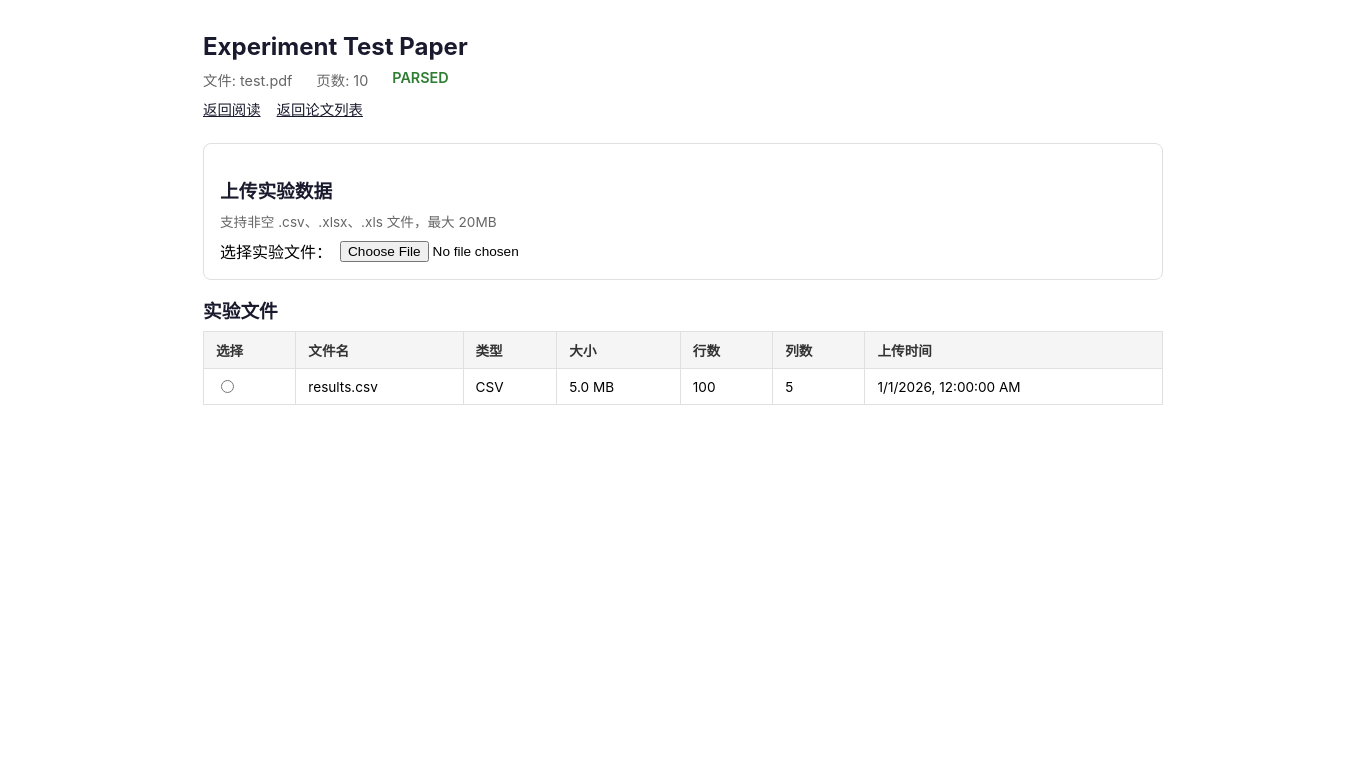
Test: ExperimentDataView › shows existing result immediately on file select
Click the row with class "file-row": (683, 386) top-left (204, 368), bottom-right (1162, 404)
(page scrolled)
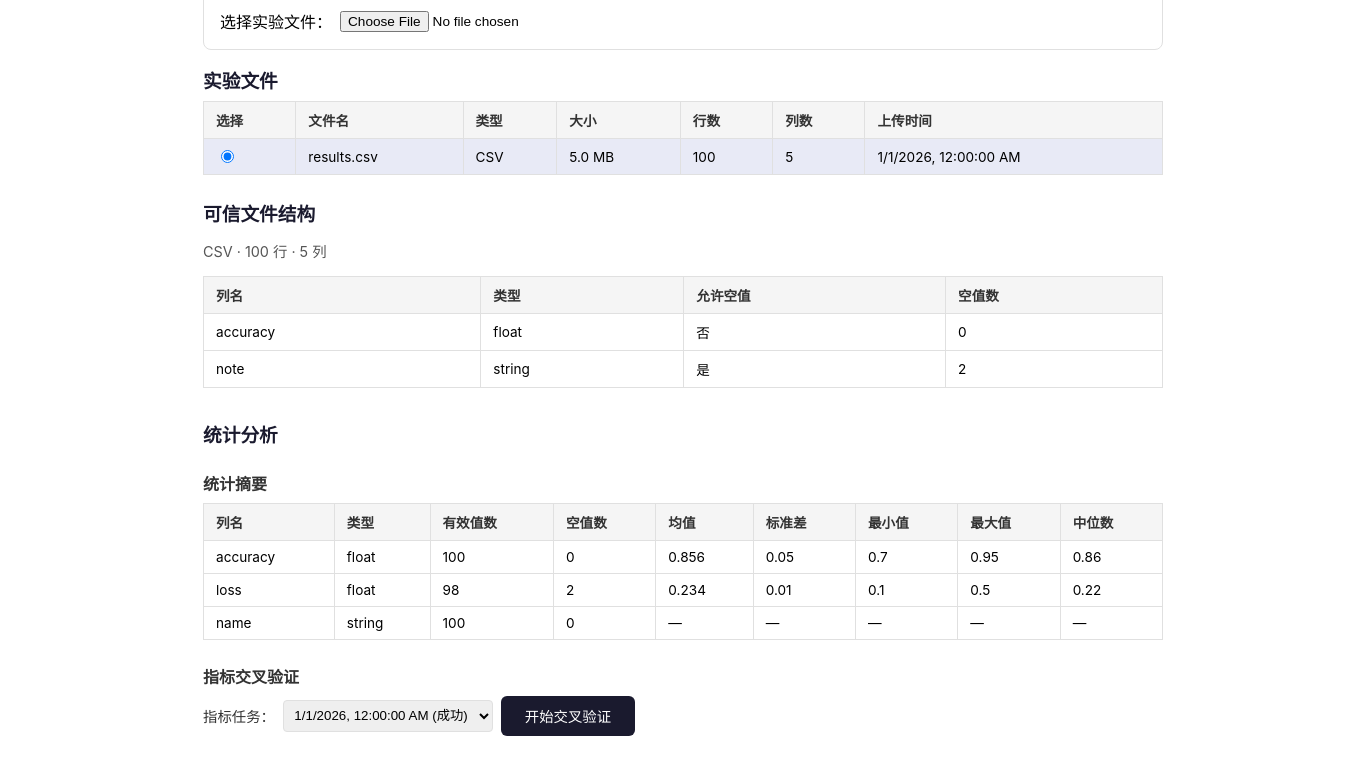
Expected: the table with class "stats-table" is shown, top-left (203, 503), bottom-right (1163, 640)
